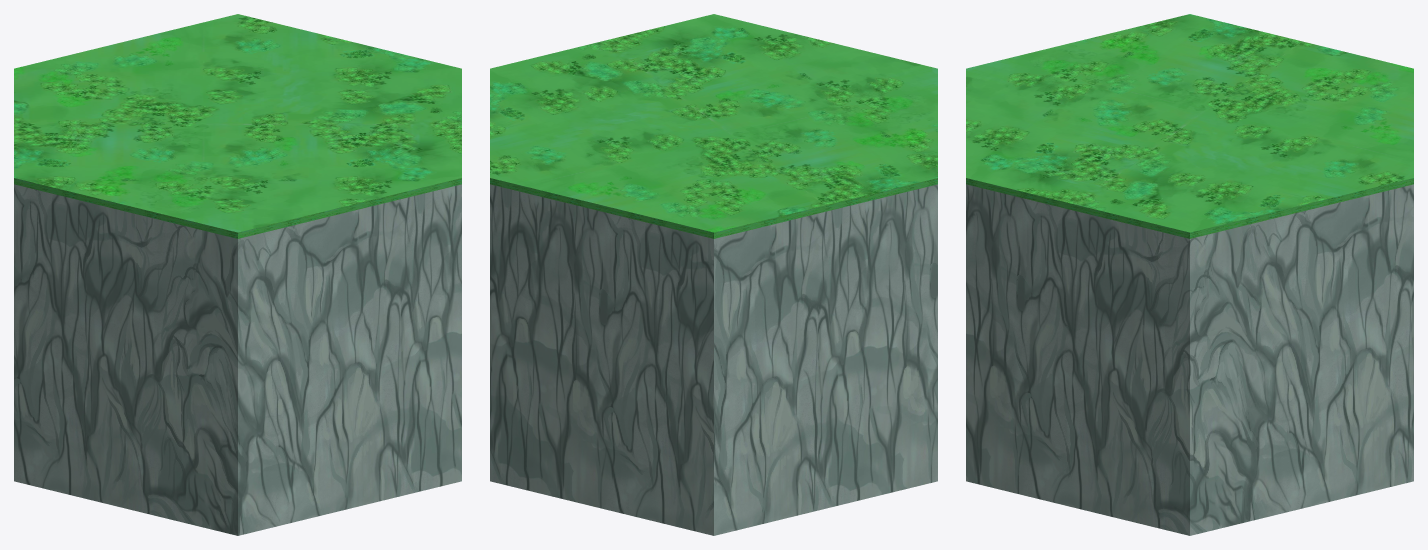
File: HexStencilTextured.fbx
The picture shows the model from 3 angles, left to right: view 1: azimuth 30°, elevation 25°; view 2: azimuth 150°, elevation 25°; view 3: azimuth 270°, elevation 25°; orthographic projection.
Visible parts, largest first — view 1: Hex1.001; view 2: Hex1.001; view 3: Hex1.001.
Part boxes in pixels (box(x1,y1,x2,y2)): Hex1.001: box(14, 14, 461, 535); Hex1.001: box(490, 14, 937, 535); Hex1.001: box(966, 14, 1413, 535).
Bounding box in the file's own units: 20 × 12.94 × 17.32.
